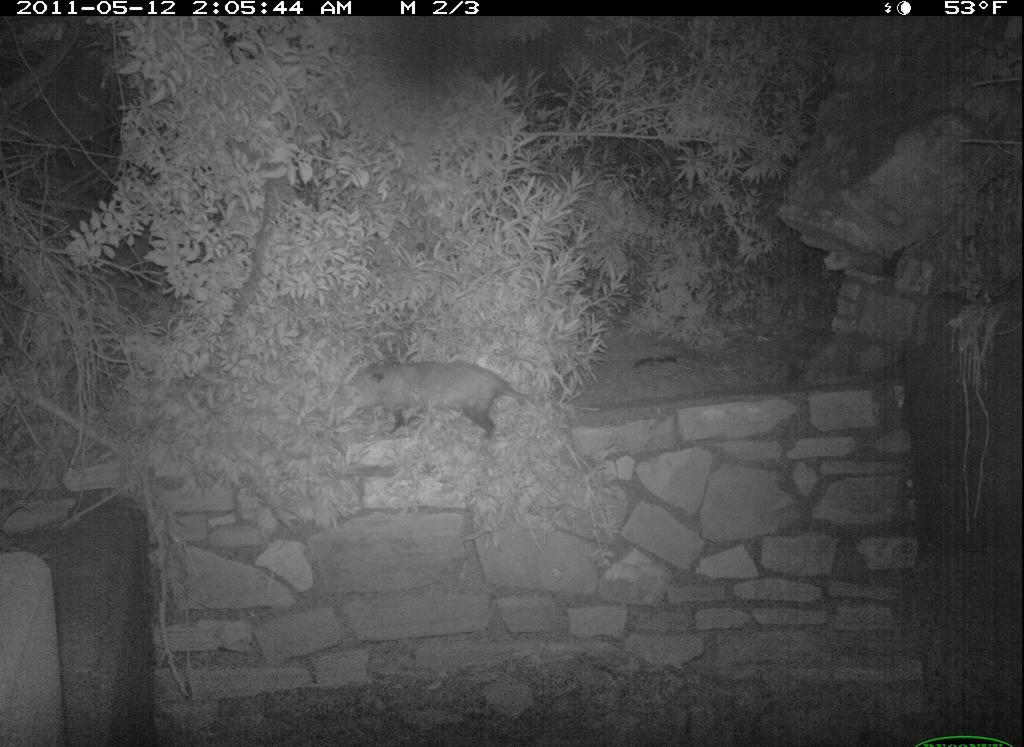opossum: (341, 355, 553, 444)
